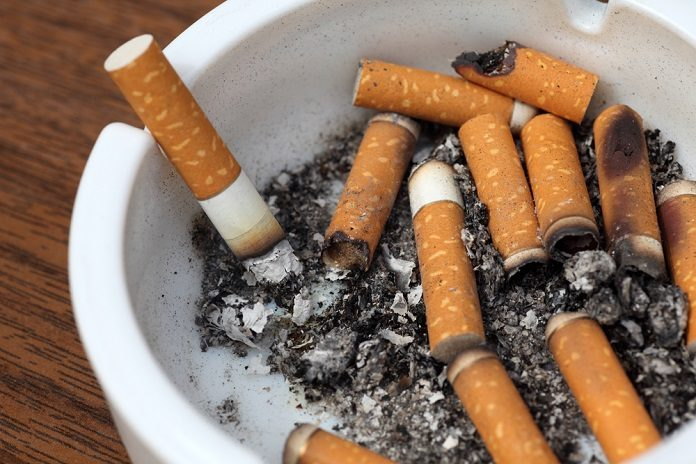cigarette: (77, 28, 310, 294), (536, 309, 668, 462), (404, 159, 490, 349), (591, 92, 664, 289)
